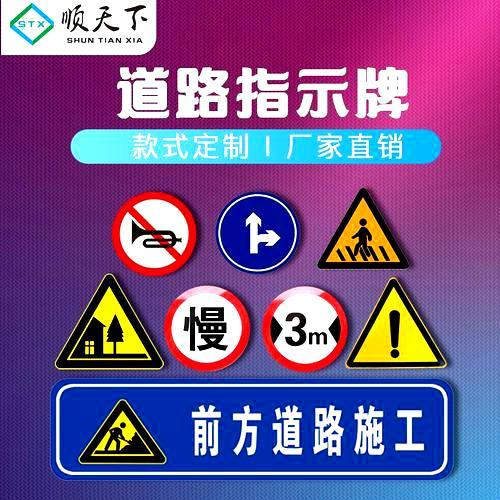sign: (52, 386, 448, 477)
